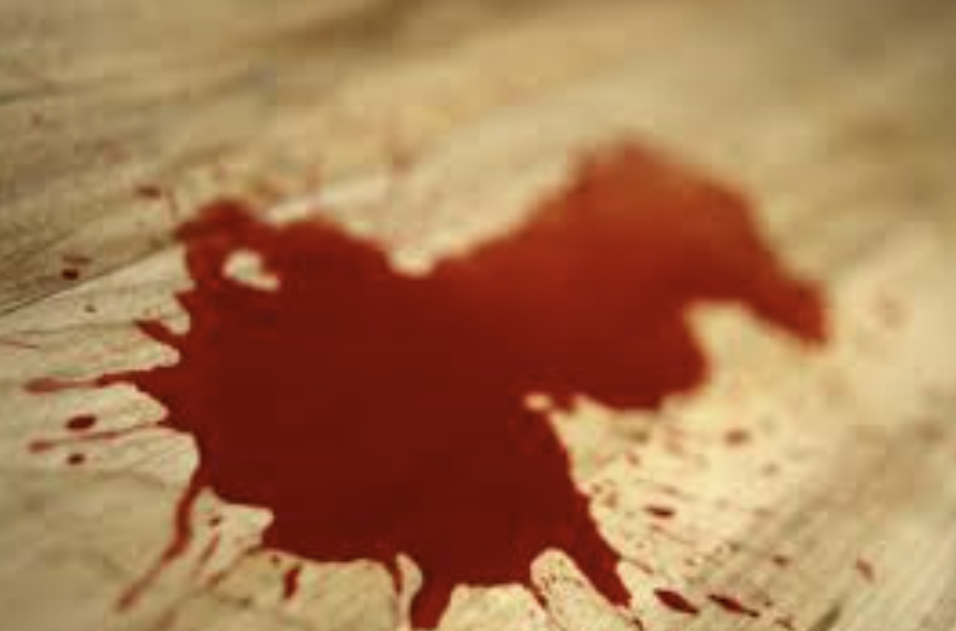blood_9.png: (68, 133, 868, 630)
